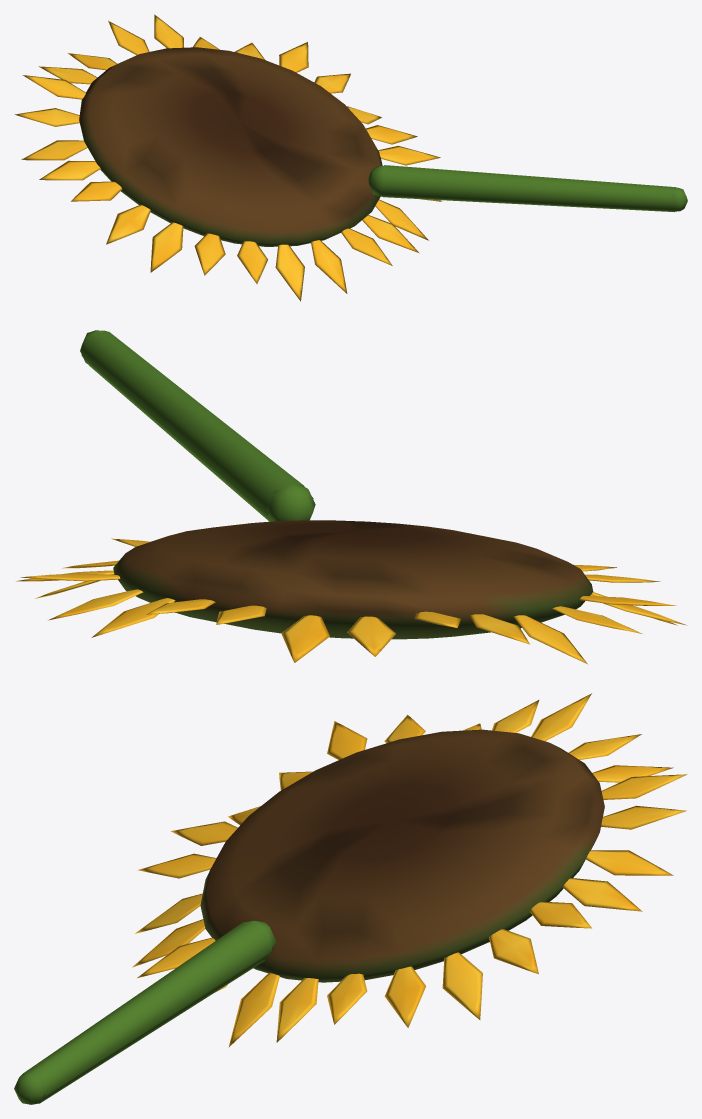
The model's file is SunflowerHead.glb.
3 renders of one model, top to bottom at view 1: azimuth 30°, elevation 25°; view 2: azimuth 150°, elevation 25°; view 3: azimuth 270°, elevation 25°, orthographic. The views are drawn at different scales.
Visible parts, largest first — view 1: HeadDisc, HeadPetals, Stalk; view 2: HeadDisc, Stalk, HeadPetals; view 3: HeadDisc, HeadPetals, Stalk.
Boxes of the visible parts, <box> form: HeadDisc: <box>79,47,382,246</box>; HeadPetals: <box>14,14,441,301</box>; Stalk: <box>367,165,687,212</box>; HeadDisc: <box>113,520,593,639</box>; Stalk: <box>80,330,315,521</box>; HeadPetals: <box>16,538,686,664</box>; HeadDisc: <box>200,729,604,982</box>; HeadPetals: <box>132,693,687,1047</box>; Stalk: <box>14,920,276,1104</box>.
Size of the model in its own units: 0.6328 by 0.1582 by 0.5445.
